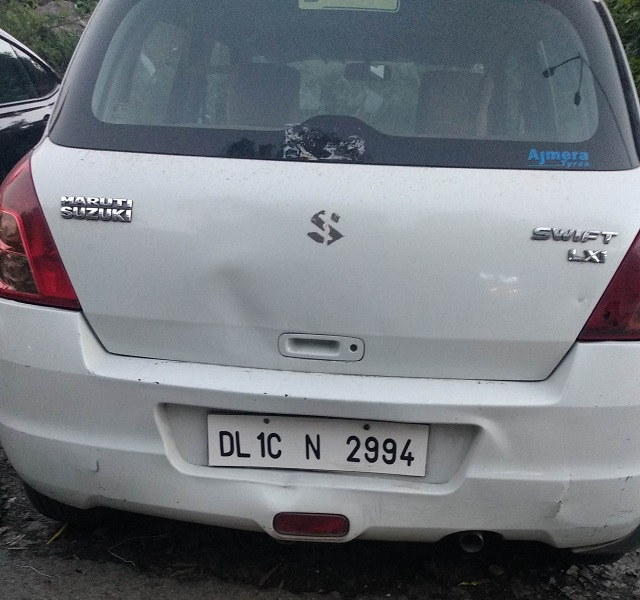licenseplate: (205, 411, 433, 482)
